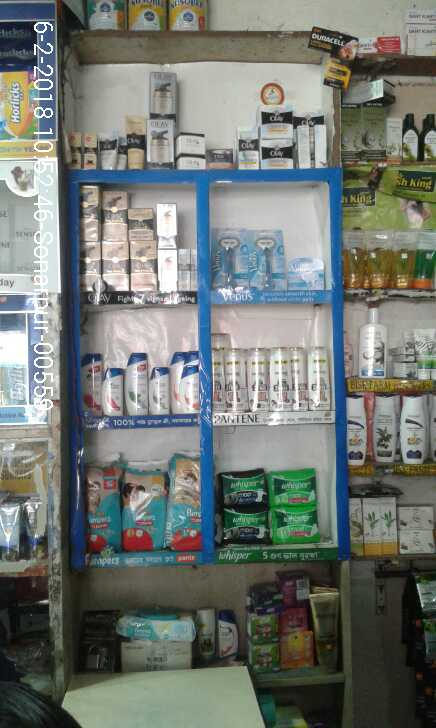venus: (252, 227, 292, 287), (213, 227, 252, 287), (292, 258, 323, 287)
